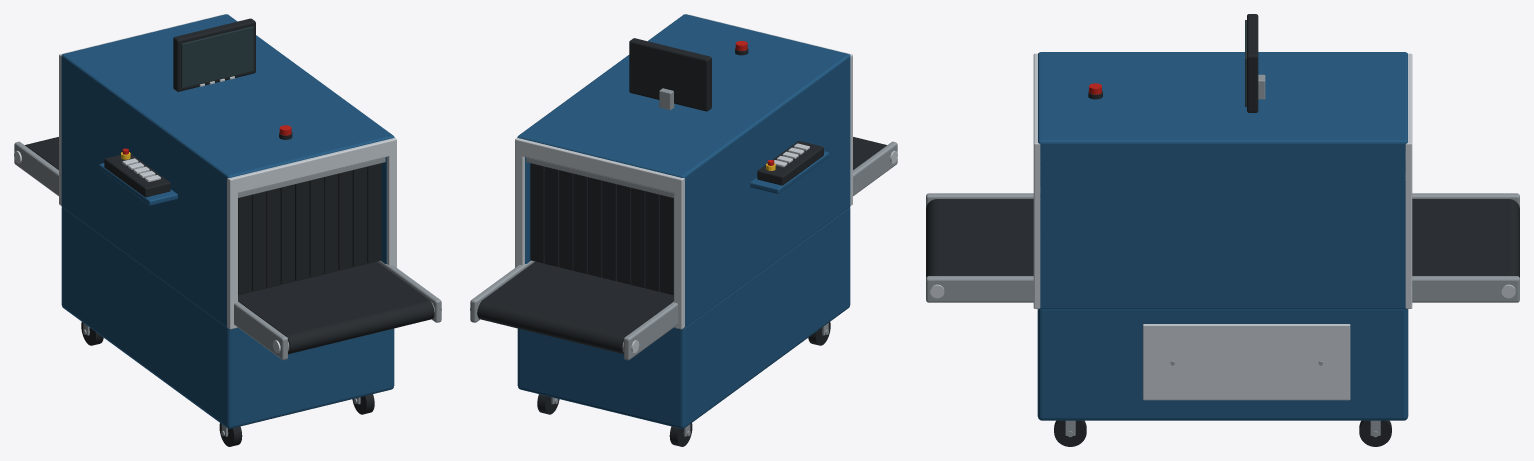
3 renders of one model, left to right at view 1: azimuth 30°, elevation 25°; view 2: azimuth 150°, elevation 25°; view 3: azimuth 270°, elevation 25°, orthographic. The views are drawn at different scales.
Visible parts, largest first — view 1: Lower equipment cabinet, Tunnel roof, Tunnel side wall -1, Continuous conveyor belt, Monitor blank glass, Portal top -1, Conveyor side rail -1, Curtain strip -1_8, Portal upright -1_-1, Monitor case, Curtain strip -1_5, Curtain strip -1_2 (+14 smaller); view 2: Lower equipment cabinet, Tunnel roof, Tunnel side wall -1, Continuous conveyor belt, Monitor case, Portal top 1, Conveyor side rail -1, Curtain strip 1_8, Portal upright -1_1, Curtain strip 1_5, Curtain strip 1_2, Curtain strip 1_7 (+13 smaller); view 3: Tunnel side wall 1, Tunnel roof, Lower equipment cabinet, Continuous conveyor belt, Rear service panel, Conveyor side rail 1, Conveyor side rail -1, Portal upright 1_-1, Portal upright 1_1, Monitor case, Caster wheel 1_-1, Caster wheel 1_1.
Boxes of the visible parts, x1,y1,x2,y2 form: Lower equipment cabinet: (61,207,394,428); Tunnel roof: (61,14,394,187); Tunnel side wall -1: (61,62,228,328); Continuous conveyor belt: (25,137,434,354); Monitor blank glass: (181,26,253,88); Portal top -1: (227,137,396,194); Conveyor side rail -1: (14,141,287,360); Curtain strip -1_8: (352,167,367,266); Portal upright -1_-1: (227,181,237,329); Monitor case: (173,18,255,91); Curtain strip -1_5: (309,177,323,277); Curtain strip -1_2: (266,188,280,287); Lower equipment cabinet: (517,207,850,428); Tunnel roof: (517,14,850,187); Tunnel side wall -1: (683,62,850,328); Continuous conveyor belt: (477,137,886,354); Monitor case: (629,38,711,111); Portal top 1: (515,137,684,194); Conveyor side rail -1: (624,141,897,360); Curtain strip 1_8: (544,167,559,266); Portal upright -1_1: (674,181,684,329); Curtain strip 1_5: (588,177,602,277); Curtain strip 1_2: (631,188,645,287); Curtain strip 1_7: (559,170,573,270); Tunnel side wall 1: (1039,149,1406,309); Tunnel roof: (1038,52,1407,154); Lower equipment cabinet: (1037,309,1408,420); Continuous conveyor belt: (926,199,1519,277); Rear service panel: (1143,324,1350,400); Conveyor side rail 1: (926,276,1519,302); Conveyor side rail -1: (926,193,1519,207); Portal upright 1_-1: (1033,146,1040,308); Portal upright 1_1: (1405,146,1412,308); Monitor case: (1247,14,1258,112); Caster wheel 1_-1: (1054,420,1086,446); Caster wheel 1_1: (1359,420,1391,446).
Bounding box in the file's own units: 0.859 × 1.39 × 2.
